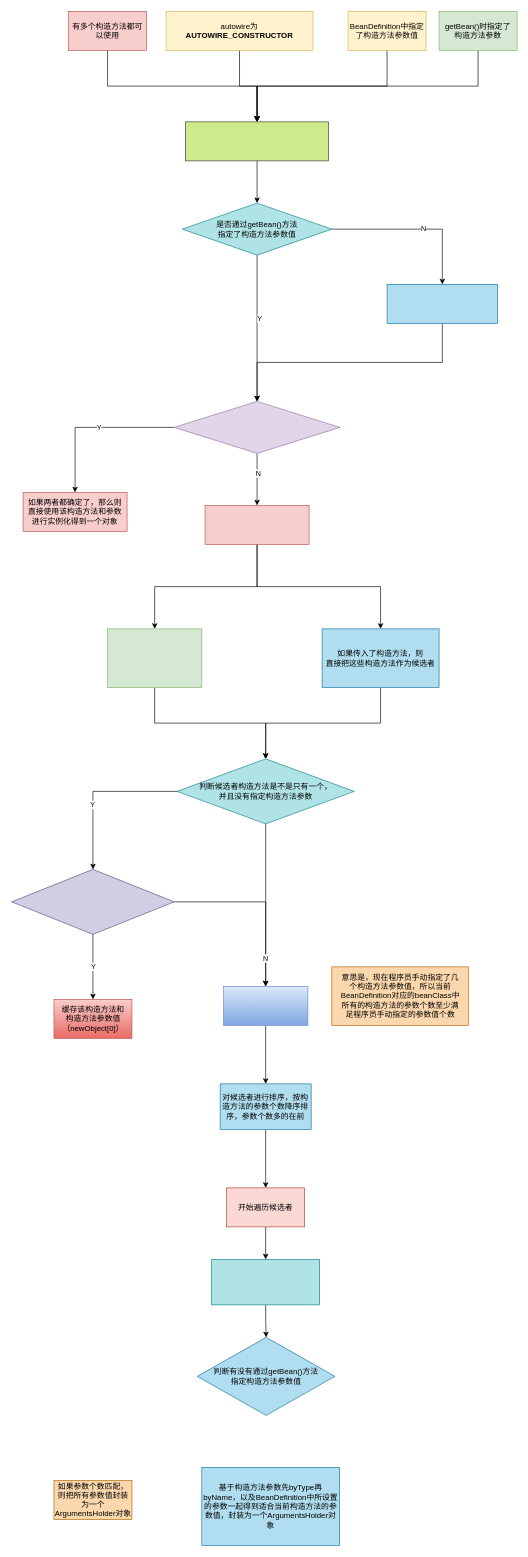
This 528x1557 diagram has some shape labels left out. Each missing label, with the centre of its shape:
"如果当前勾选者的参数个数小于minNrOfArgs，则该候选者不匹配，继续下一个候选者" belongs at [265,1282].
"如果没有传入构造方法， 那么则获取当前BeanDefinition对应的 beanClass中的所有构造 方法作为候选者" belongs at [154,657].
"如果这两者任意一个为空， 则继续进行下面的步骤" belongs at [256,524].
"经过上述步骤， 判断是否直接确定了构造方法 和构造方法参数值" belongs at [257,427].
"计算构造方法参数 个数最少个数， minNrOfArgs" belongs at [265,1005].
"该构造方法是不是无参 的构造方法" belongs at [92,901].
"进行推断构造方法" belongs at [257,141].
"针对当前BeanDefinition 是否缓存了构造方法和 构造方法参数值" belongs at [442,303].
